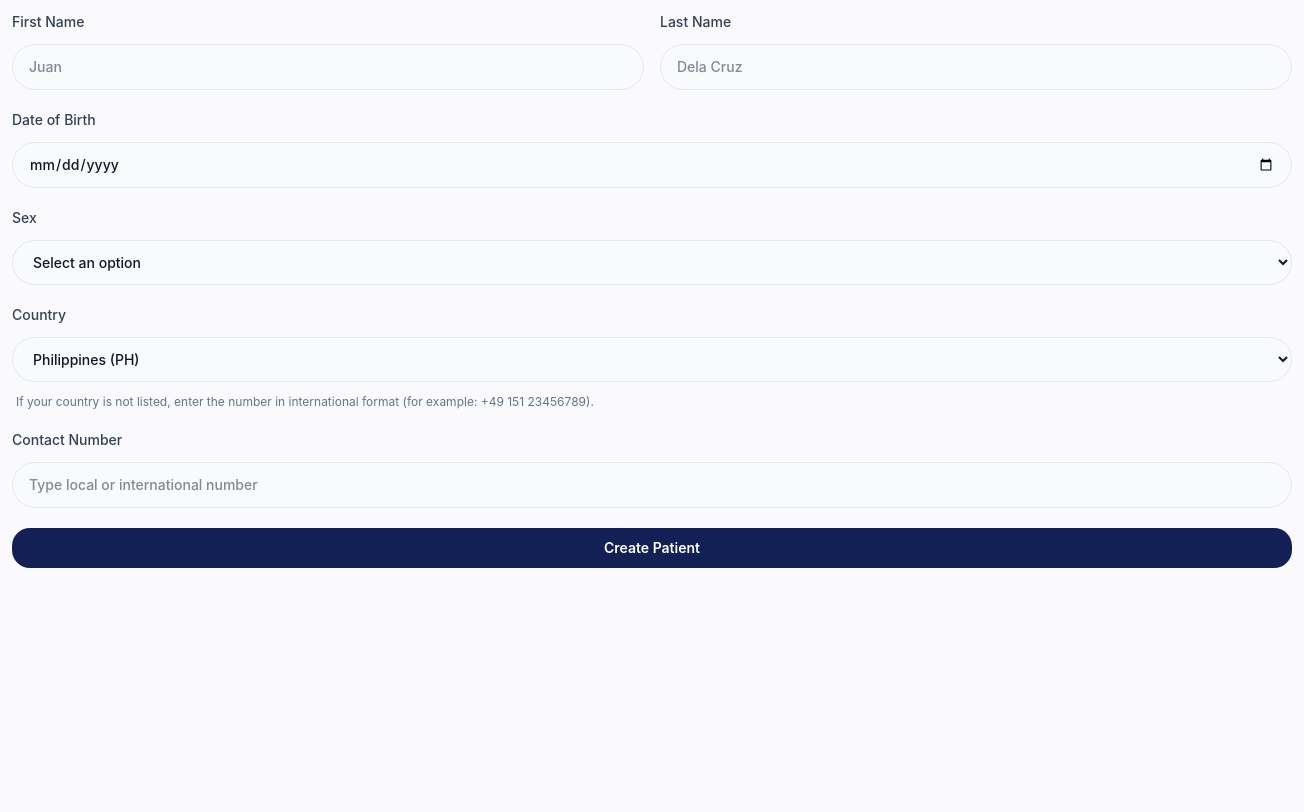
Scenario: PatientForm validation feedback › renders top-level field errors for backward compatibility
In the field with id "first_name": [328, 67] box [12,44,644,90], type "Regression"
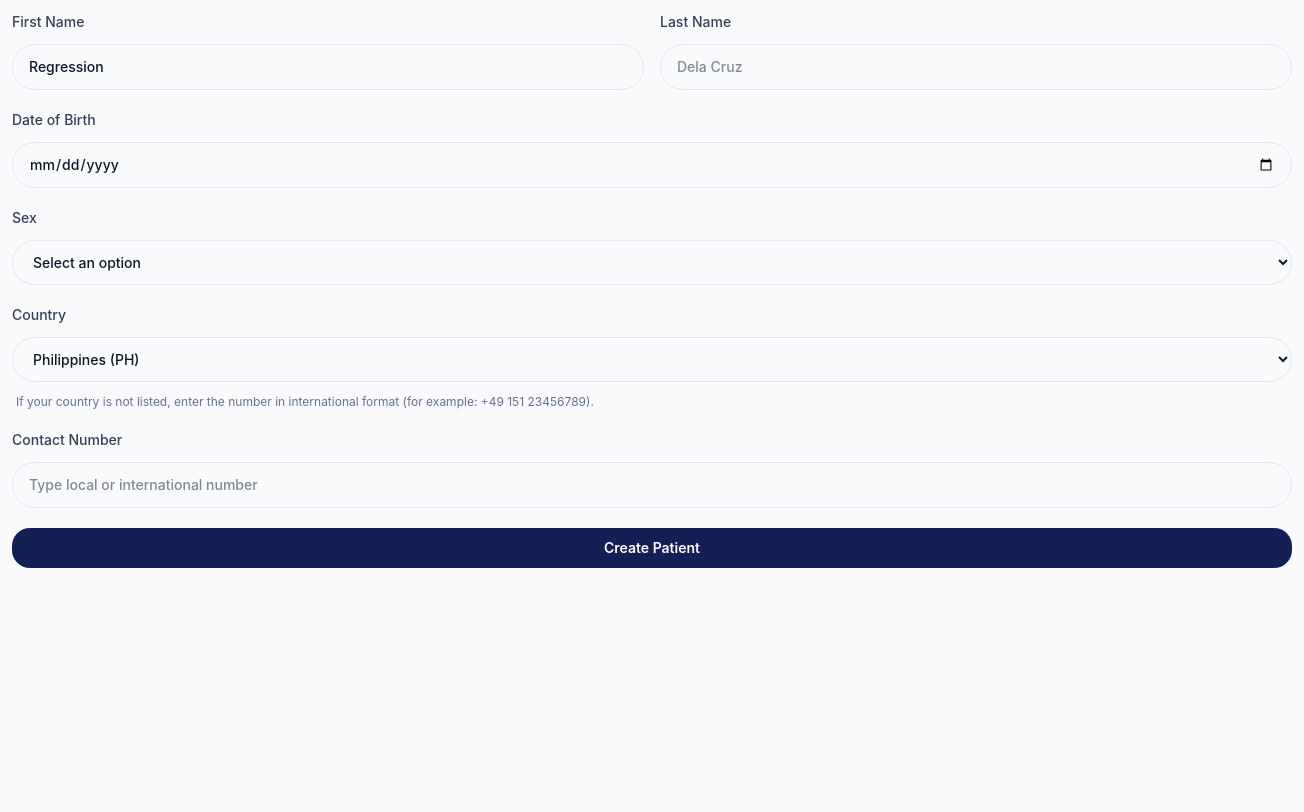
In the field with id "last_name": [976, 67] box [660,44,1292,90], type "Tester"
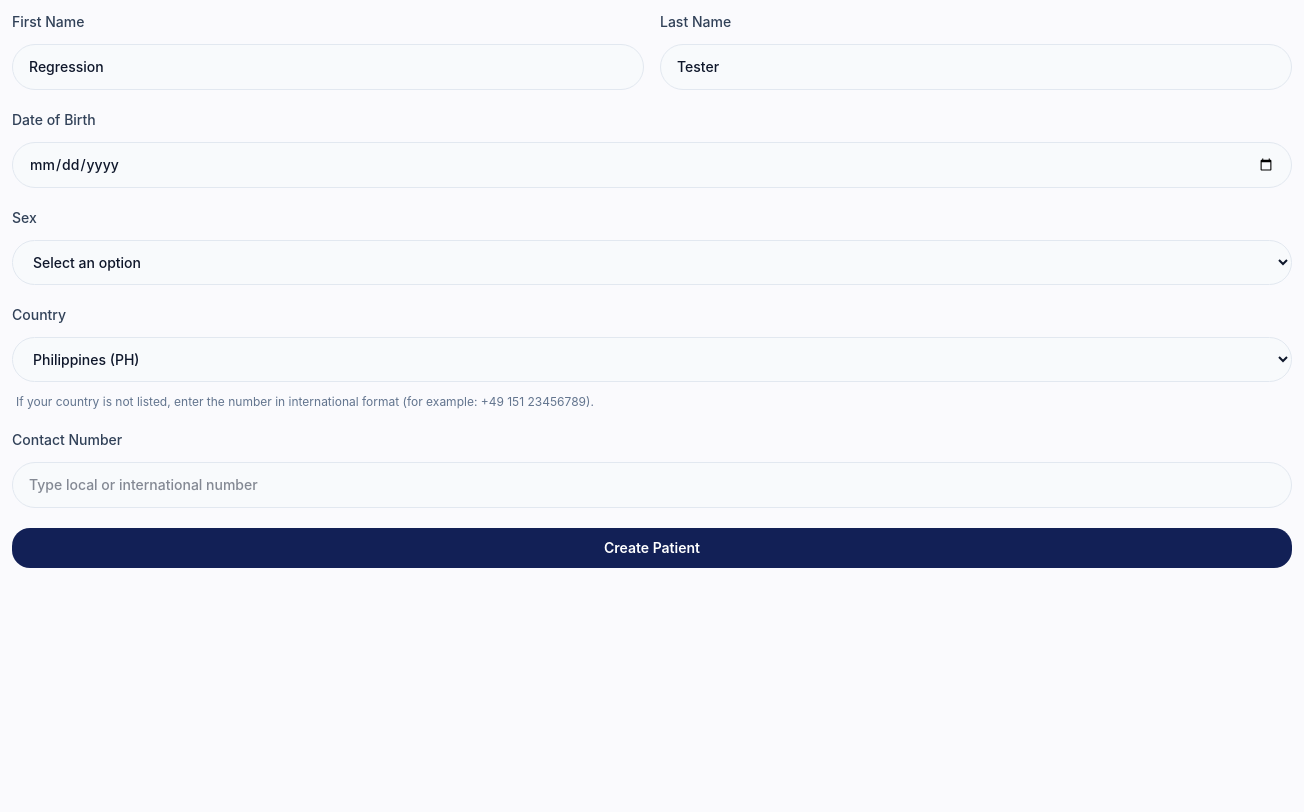
In the date field with id "date_of_birth": [652, 165] box [12,142,1292,188], type "1990-05-05"
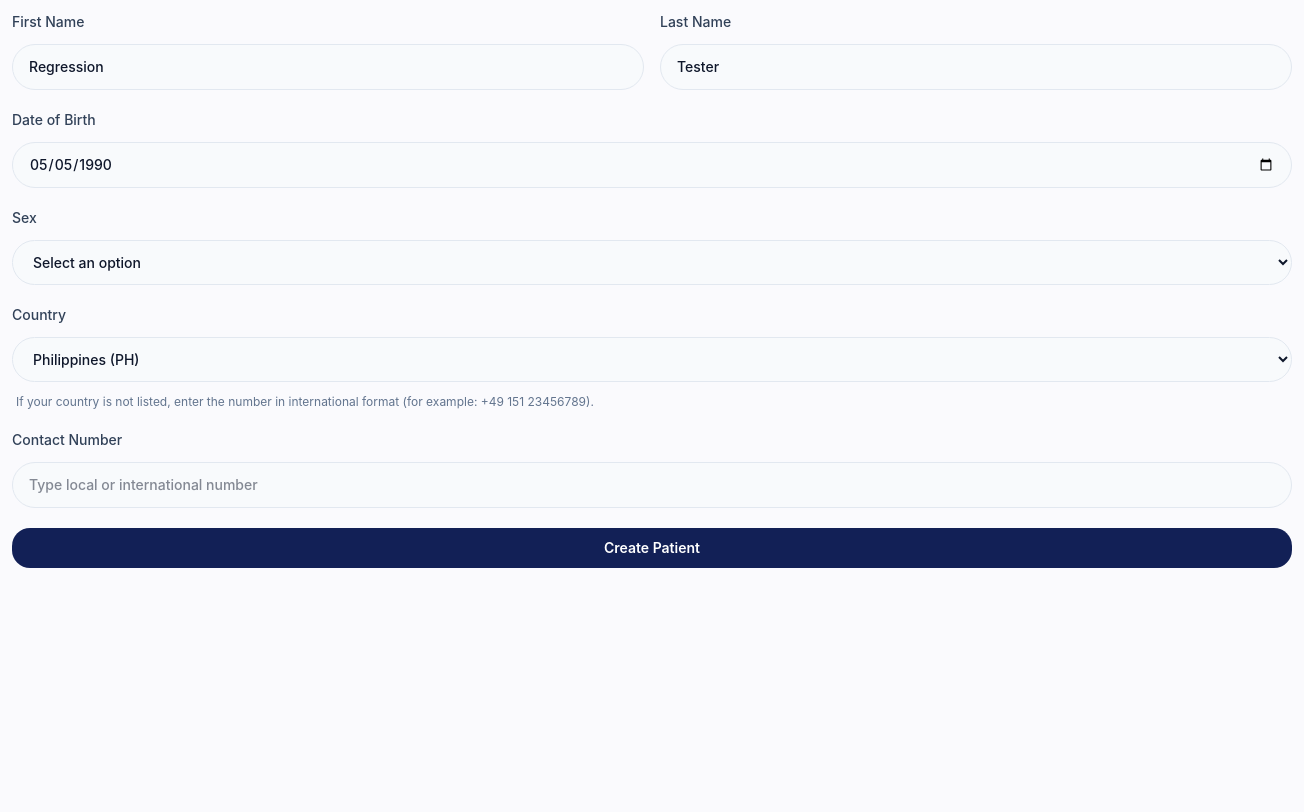
Select "Male" in the dropdown with id "sex": [652, 262] box [12,240,1292,285]
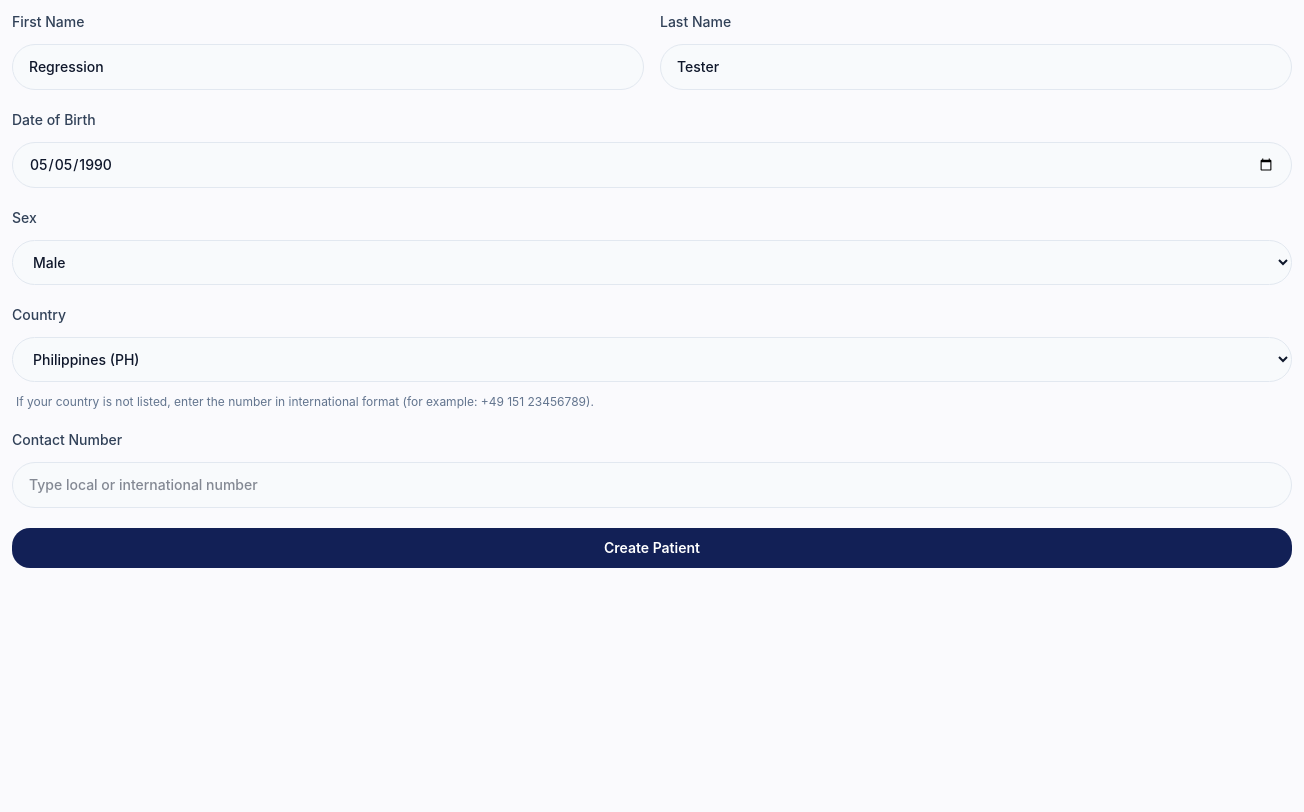
In the field with id "contact_number": [652, 485] box [12,462,1292,508], type "09171234567"
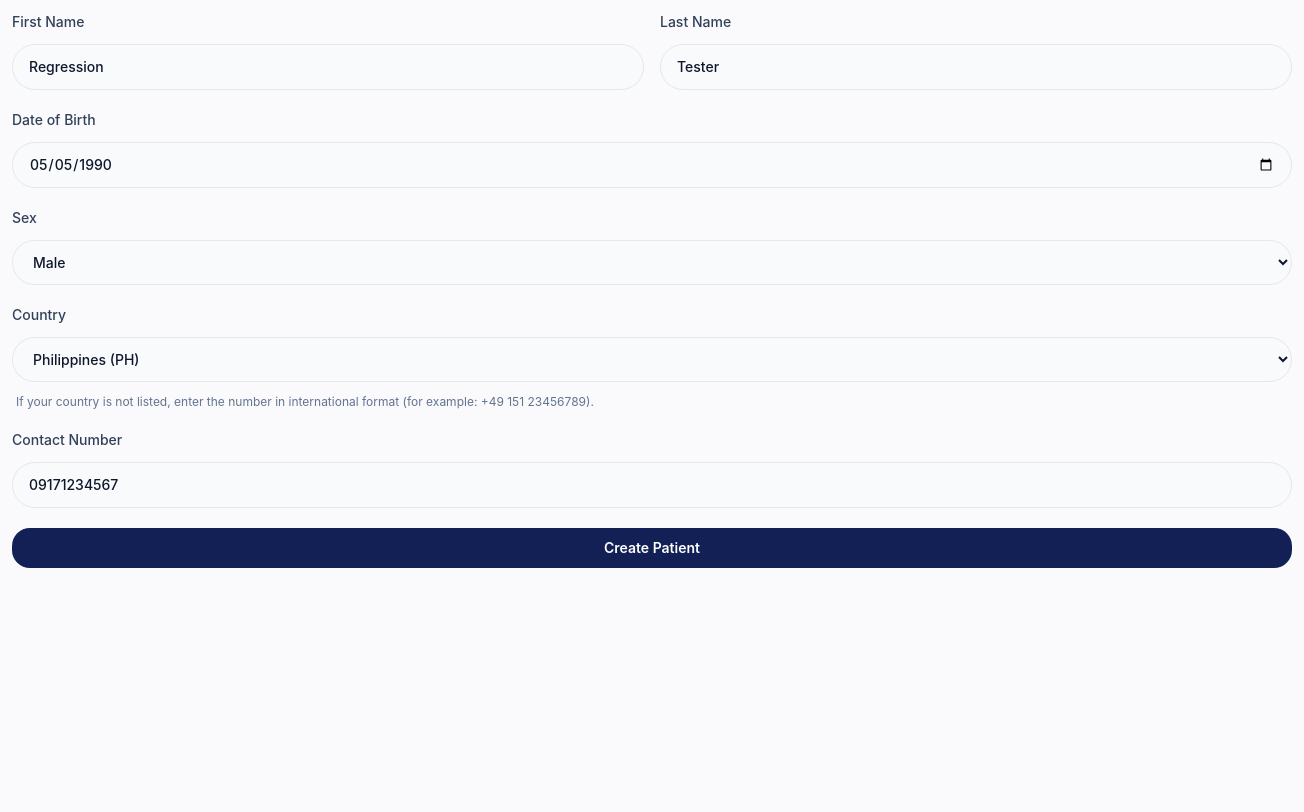
Submit the form
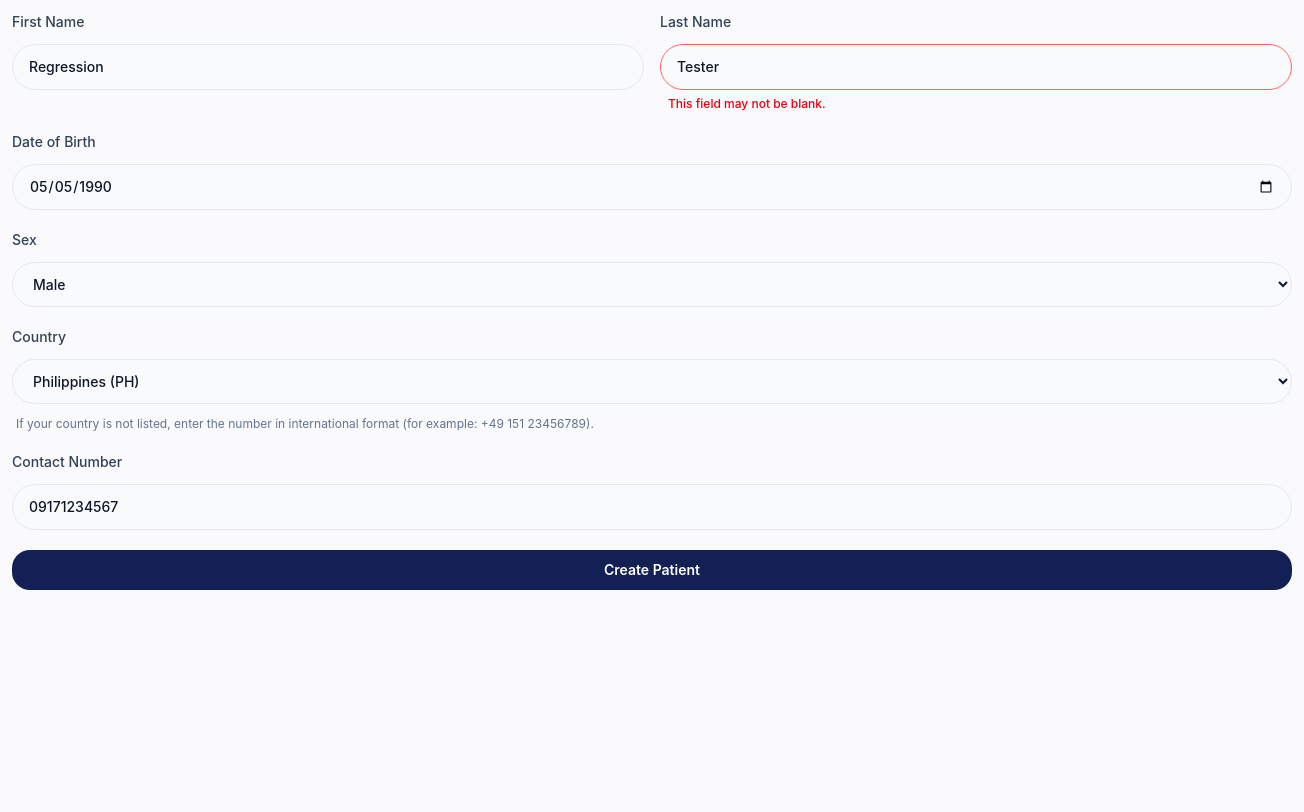
Now the text "This field may not be blank." is shown, box [668,96,826,111]
